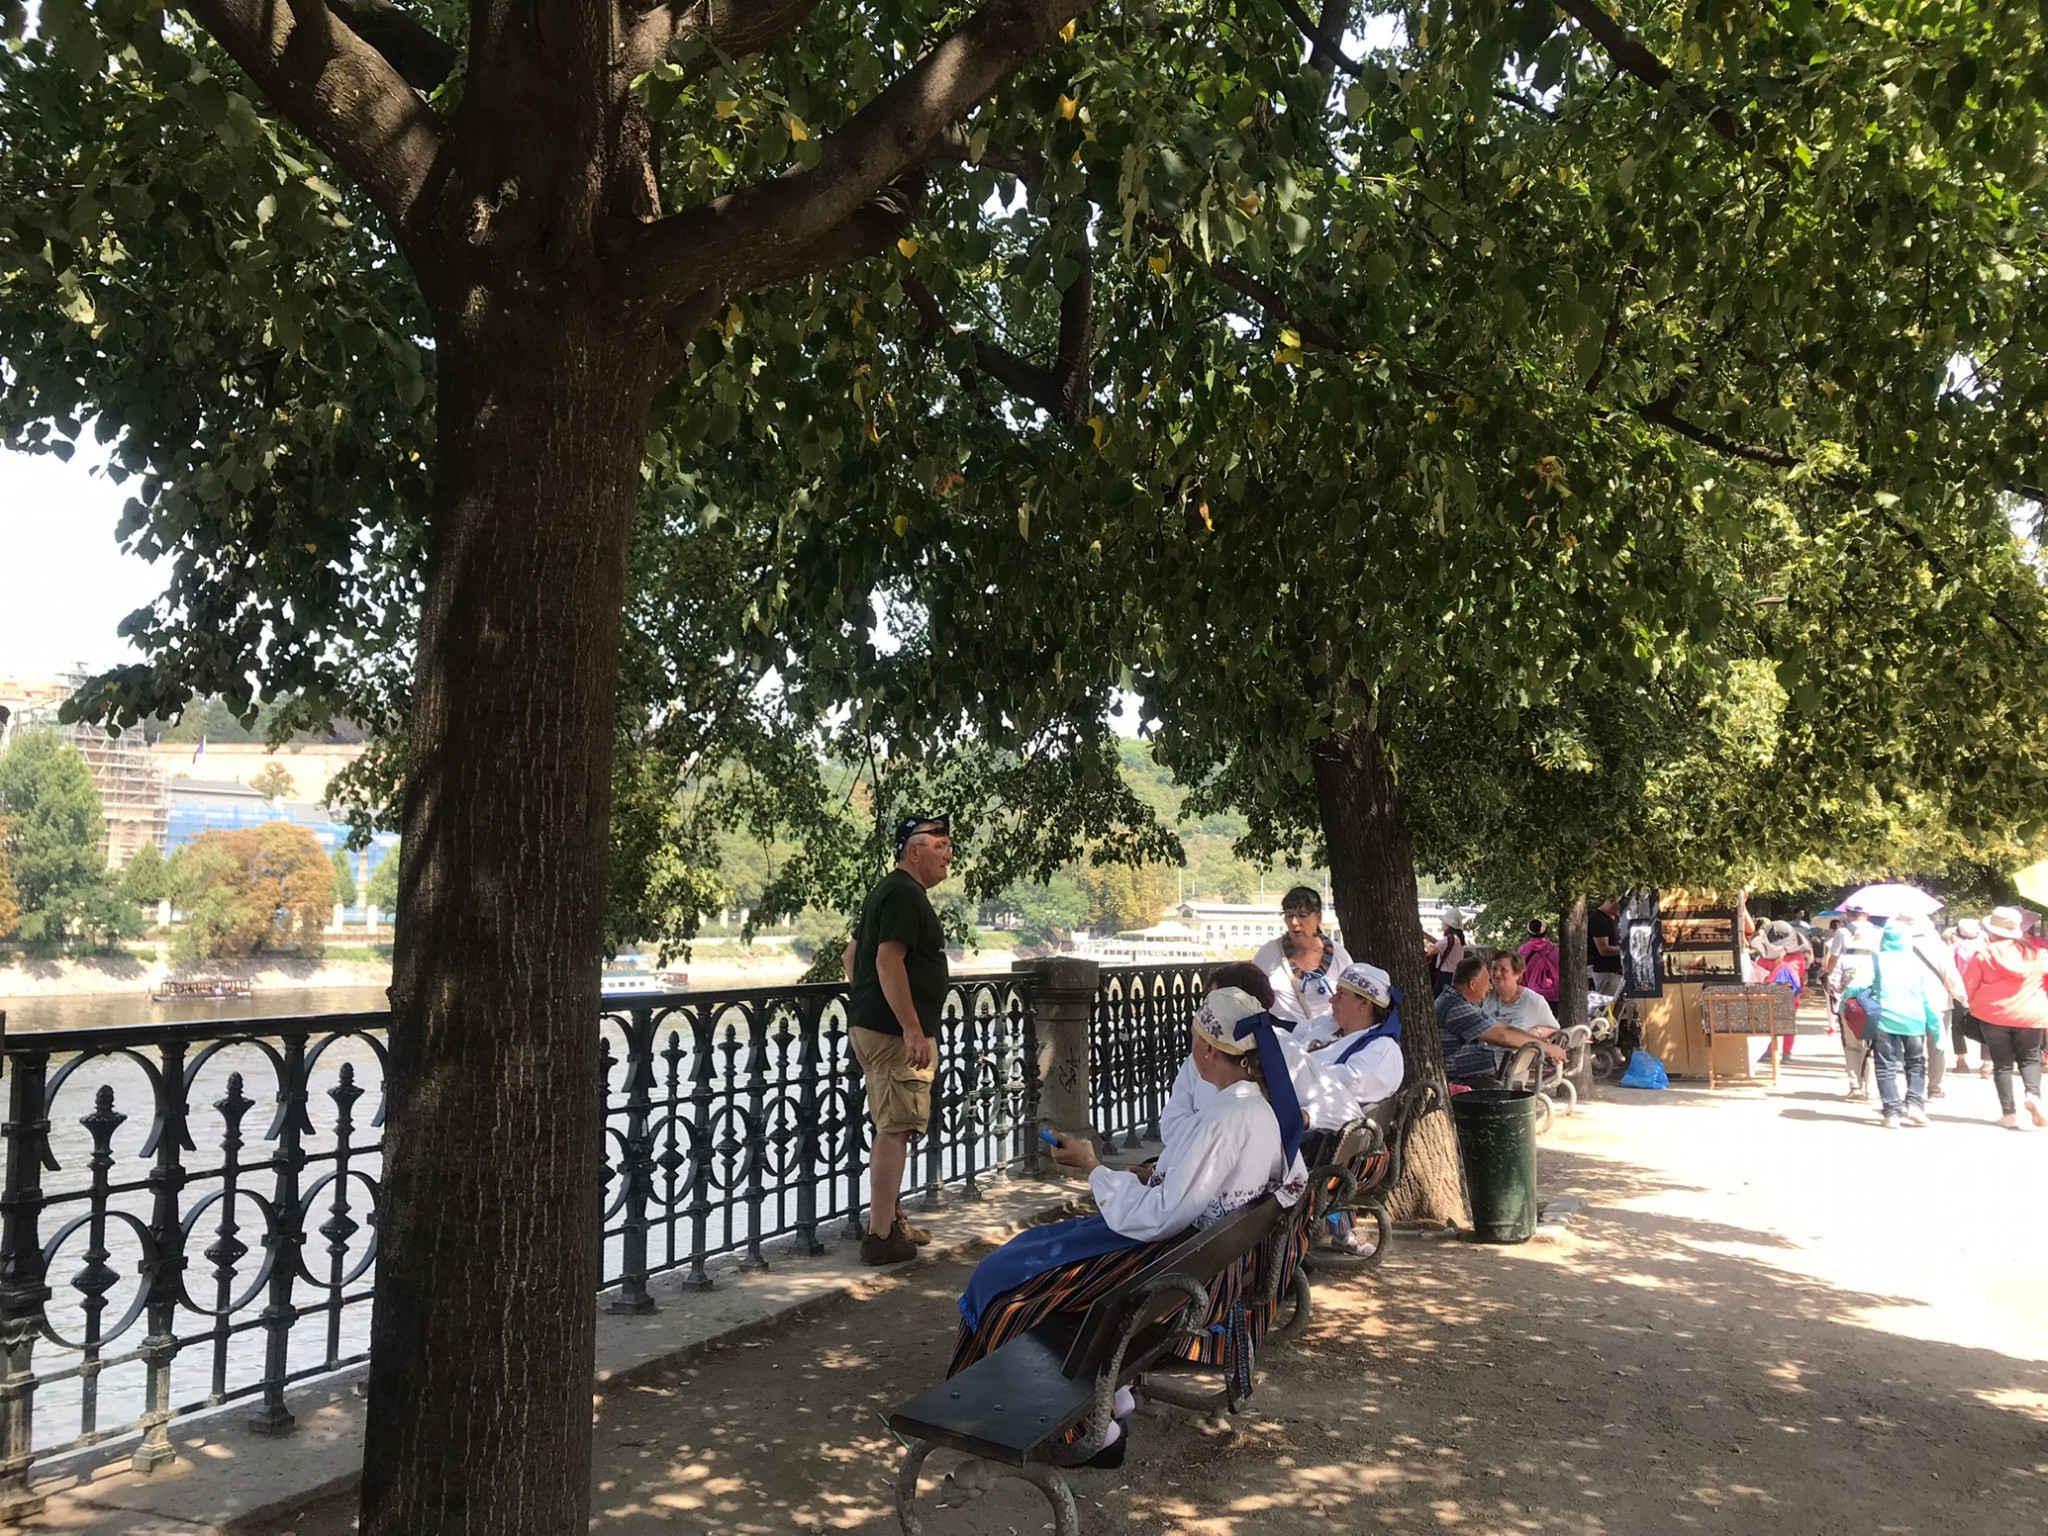people: (1104, 984, 1284, 1366), (854, 816, 954, 1266), (1849, 922, 1960, 1137), (1969, 902, 2048, 1137), (1304, 969, 1416, 1134), (1207, 949, 1293, 1152), (1254, 878, 1352, 1031), (1422, 963, 1510, 1090), (1481, 949, 1563, 1072)
